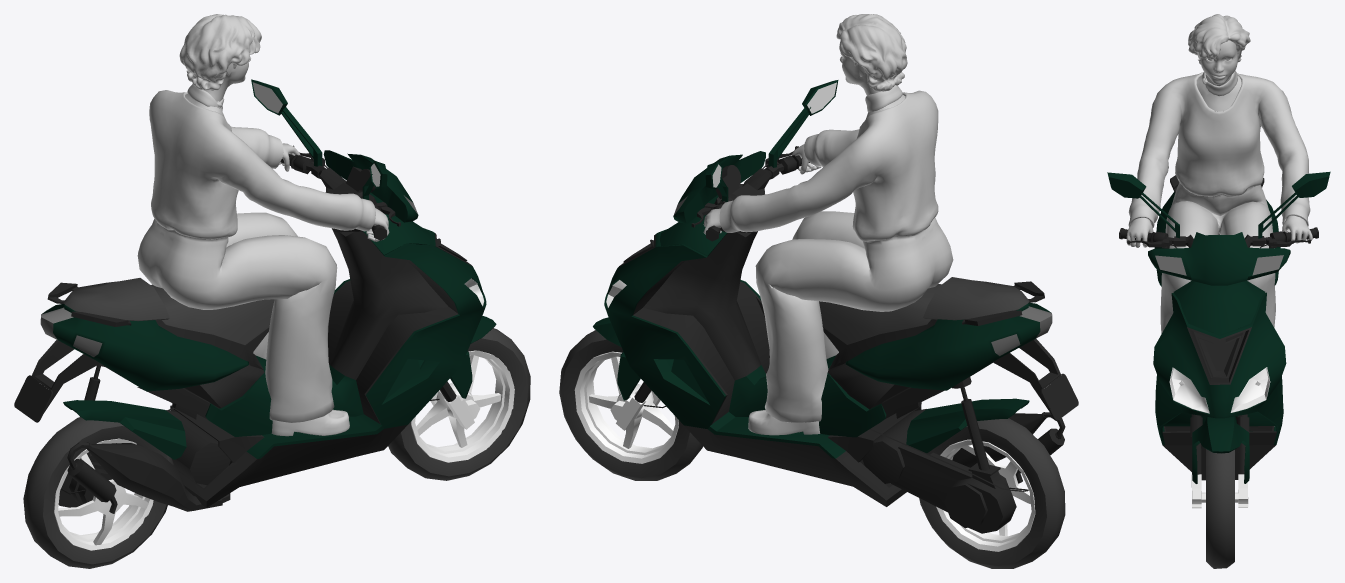
Rendered from sm_motorcycle_03_modelcenterpoint_lod_2.fbx.
3 renders of one model, left to right at view 1: azimuth 30°, elevation 25°; view 2: azimuth 150°, elevation 25°; view 3: azimuth 270°, elevation 25°, orthographic. The views are drawn at different scales.
Parts seen in each view (by area): view 1: sm_motorcycle_03_modelcenterpoint_lod_3; view 2: sm_motorcycle_03_modelcenterpoint_lod_3; view 3: sm_motorcycle_03_modelcenterpoint_lod_3.
Part boxes in pixels (<box>): sm_motorcycle_03_modelcenterpoint_lod_3: <box>14,14,530,568</box>; sm_motorcycle_03_modelcenterpoint_lod_3: <box>559,14,1078,568</box>; sm_motorcycle_03_modelcenterpoint_lod_3: <box>1107,14,1330,568</box>.
Size of the model in its own units: 1.9 by 1.87 by 0.8473.
